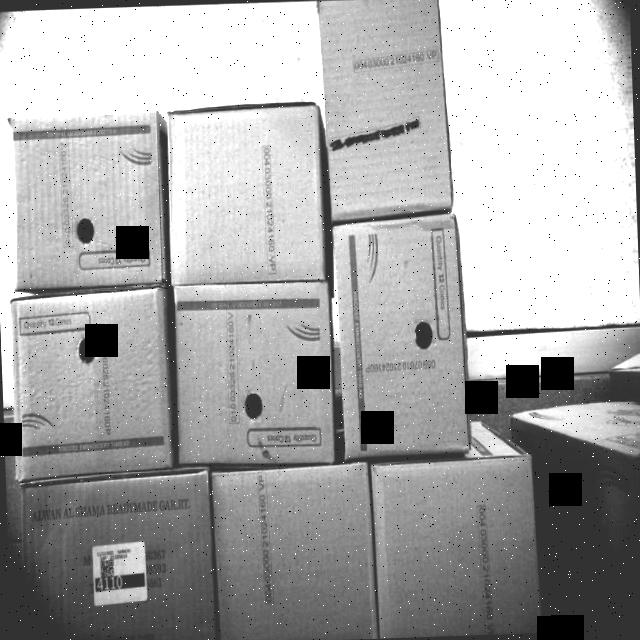box: (20, 468, 216, 640), (334, 222, 468, 458), (11, 289, 174, 481), (374, 453, 536, 637), (174, 282, 336, 464), (211, 464, 375, 640), (320, 0, 452, 209), (170, 103, 324, 282), (10, 113, 166, 286)
